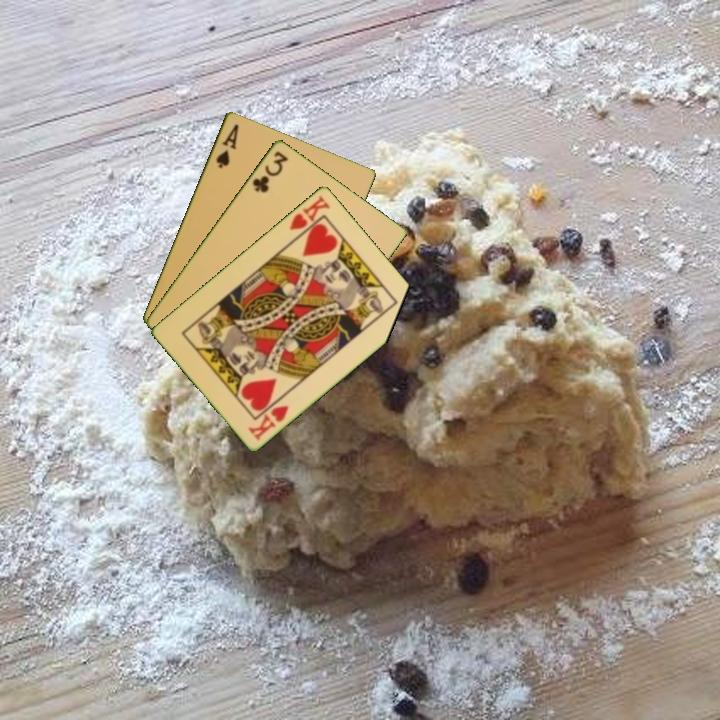3c: (248, 147, 291, 196)
As: (212, 120, 241, 171)
Kh: (285, 192, 333, 242), (244, 401, 292, 443)
